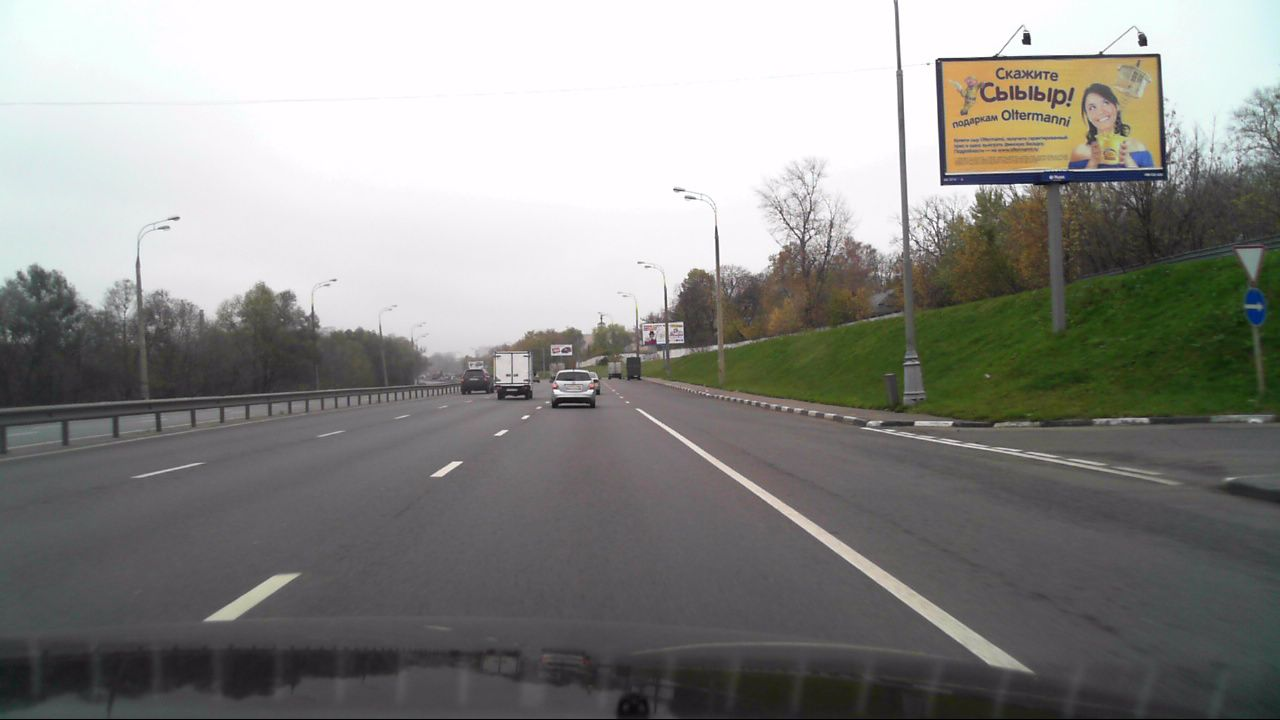Turn Right: (1245, 289, 1266, 325)
